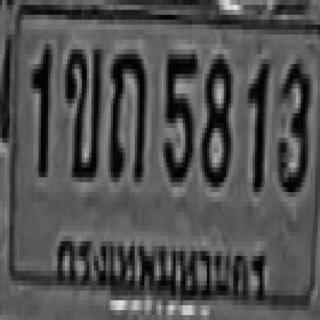A02: (63, 44, 101, 177)
A22: (108, 49, 144, 177)
N01: (29, 39, 51, 172), (245, 56, 267, 185)
N03: (274, 56, 308, 190)
N05: (161, 49, 195, 177)
N08: (200, 52, 229, 180)
P04: (51, 218, 274, 312)
